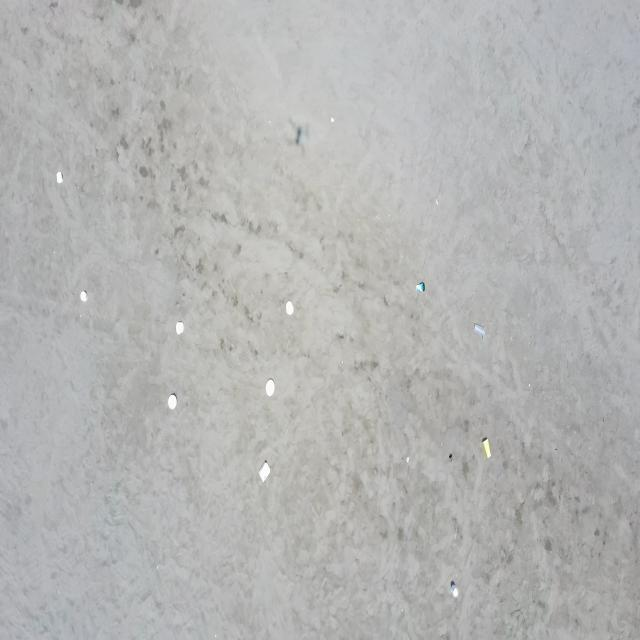take-away-containers: (265, 378, 275, 396), (262, 462, 272, 479), (168, 394, 178, 410), (286, 300, 294, 316), (176, 322, 184, 335), (56, 172, 64, 184), (80, 291, 87, 302)
takeaway-cup: (473, 322, 486, 339), (482, 438, 492, 459), (451, 583, 458, 598), (416, 282, 425, 292)
